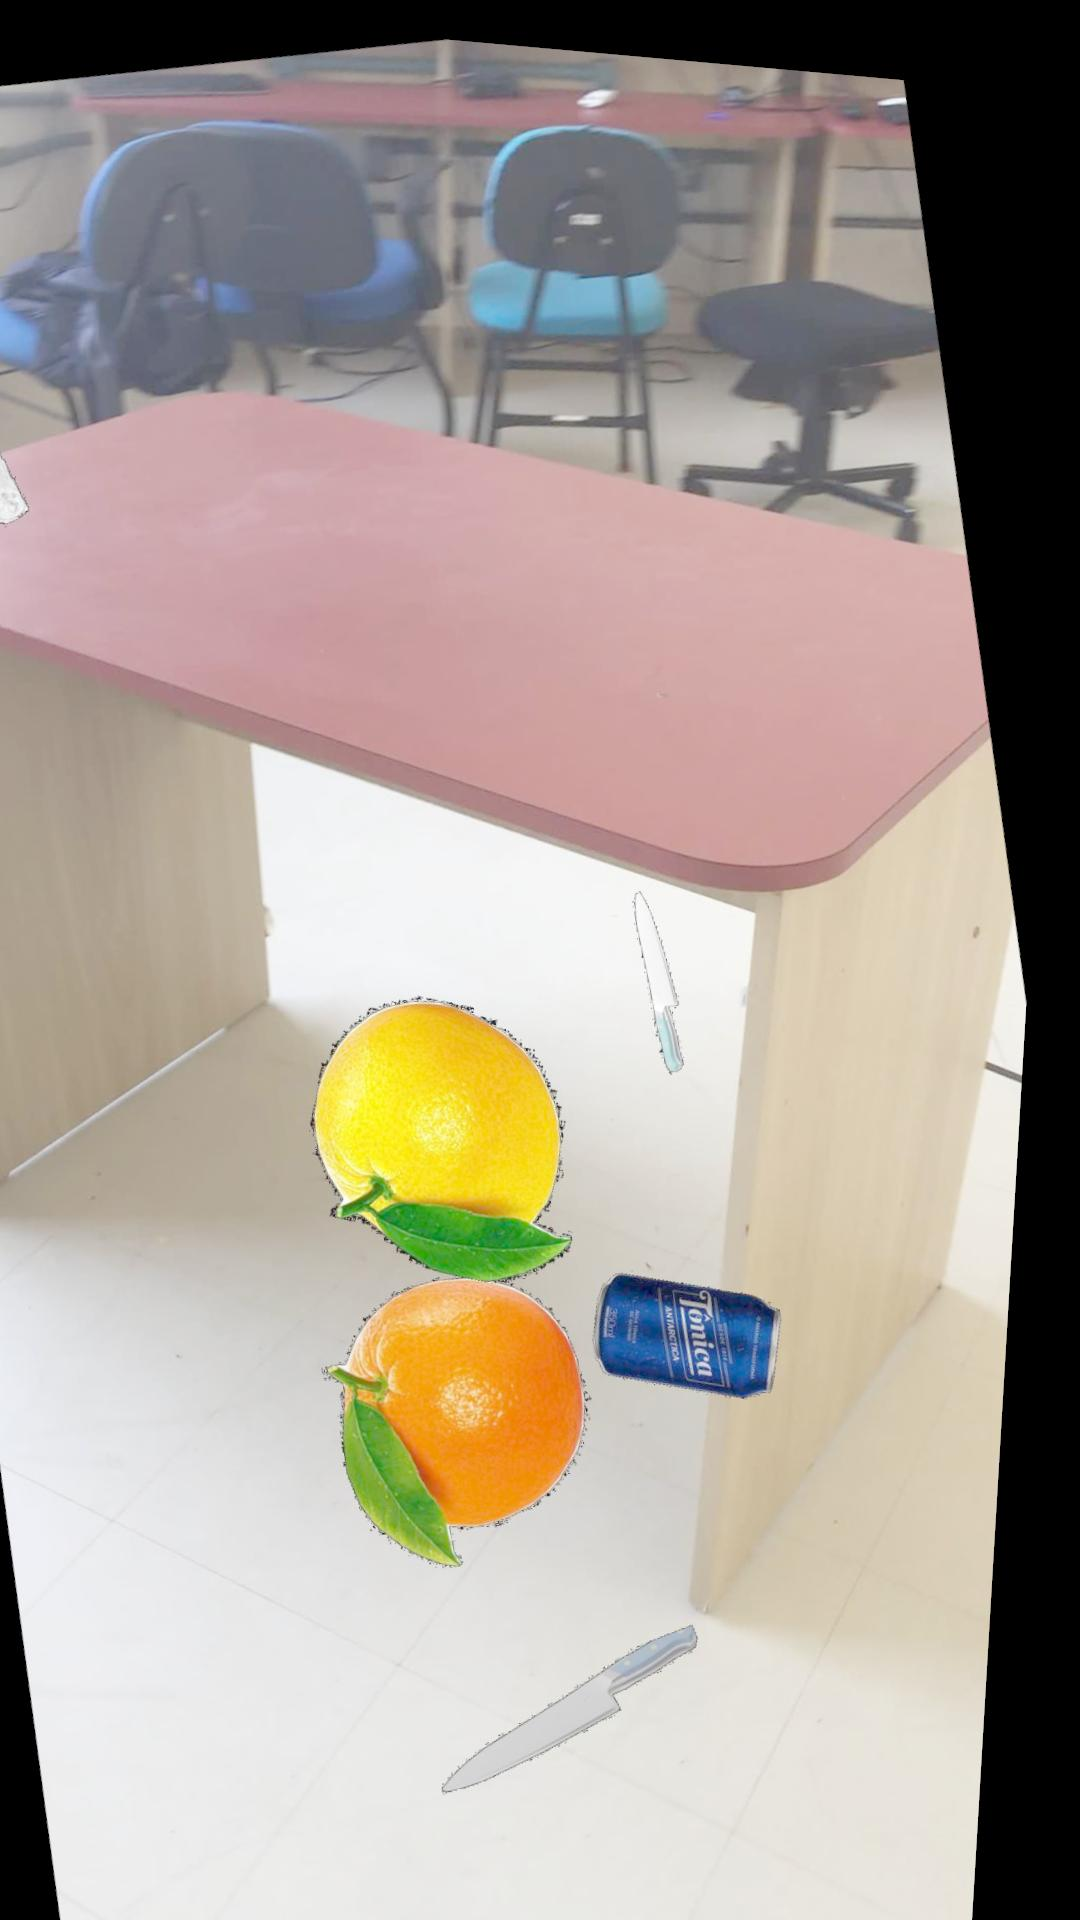knife: (465, 1609, 719, 1782), (646, 877, 698, 1059)
orange: (344, 1266, 609, 1555), (326, 985, 588, 1270)
spoon: (0, 436, 37, 522)
tonic: (611, 1258, 798, 1382)
